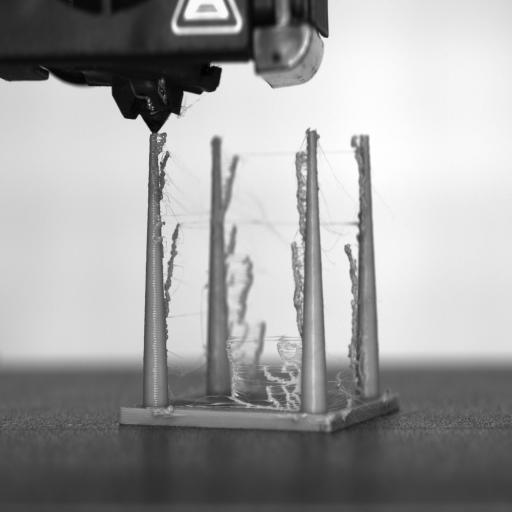spaghetti_and_stringing: (159, 137, 355, 406)
